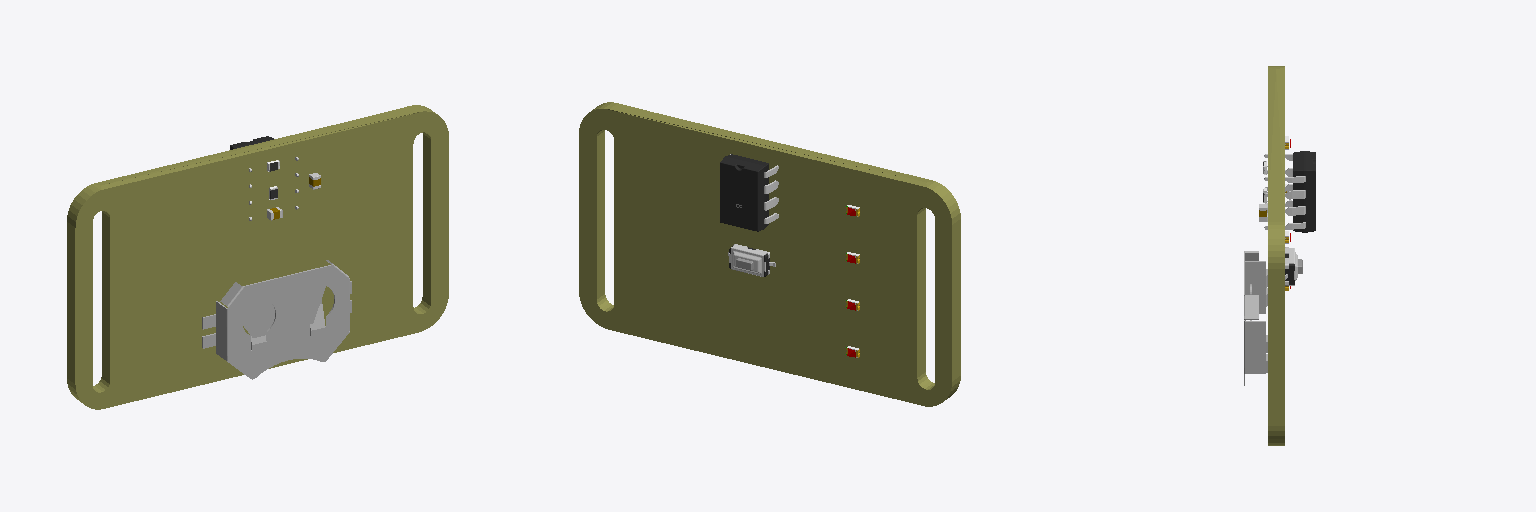
Rendered from OBJ_PCB_ATtiny13BinaryWatches.obj.
3 views of the same model, side by side, from view 1: azimuth 30°, elevation 25°; view 2: azimuth 150°, elevation 25°; view 3: azimuth 270°, elevation 25° (orthographic).
Bounding box in the file's own units: 249 × 141 × 42.01.